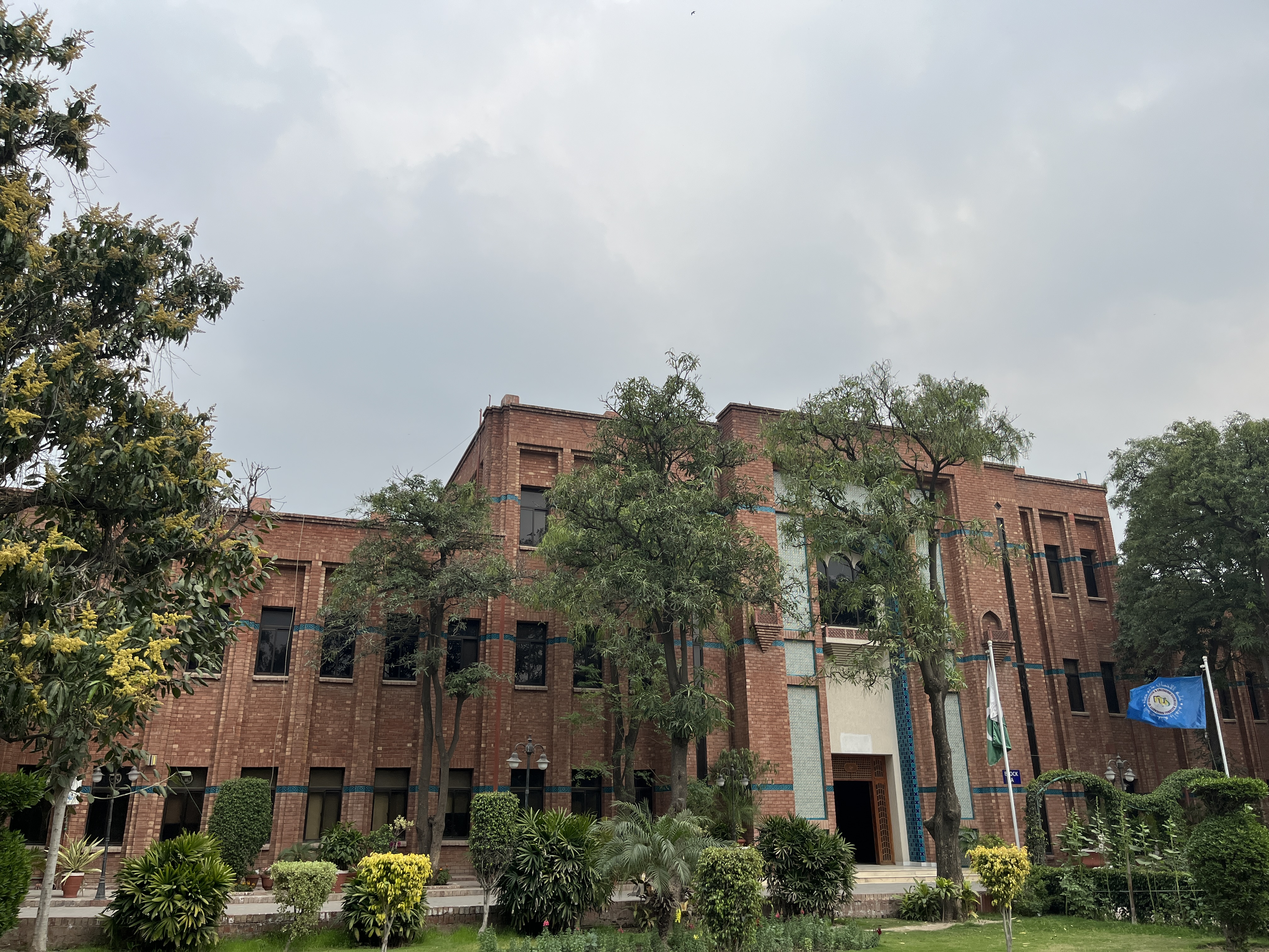Block A: (2, 336, 1269, 898), (1, 389, 1250, 873)
